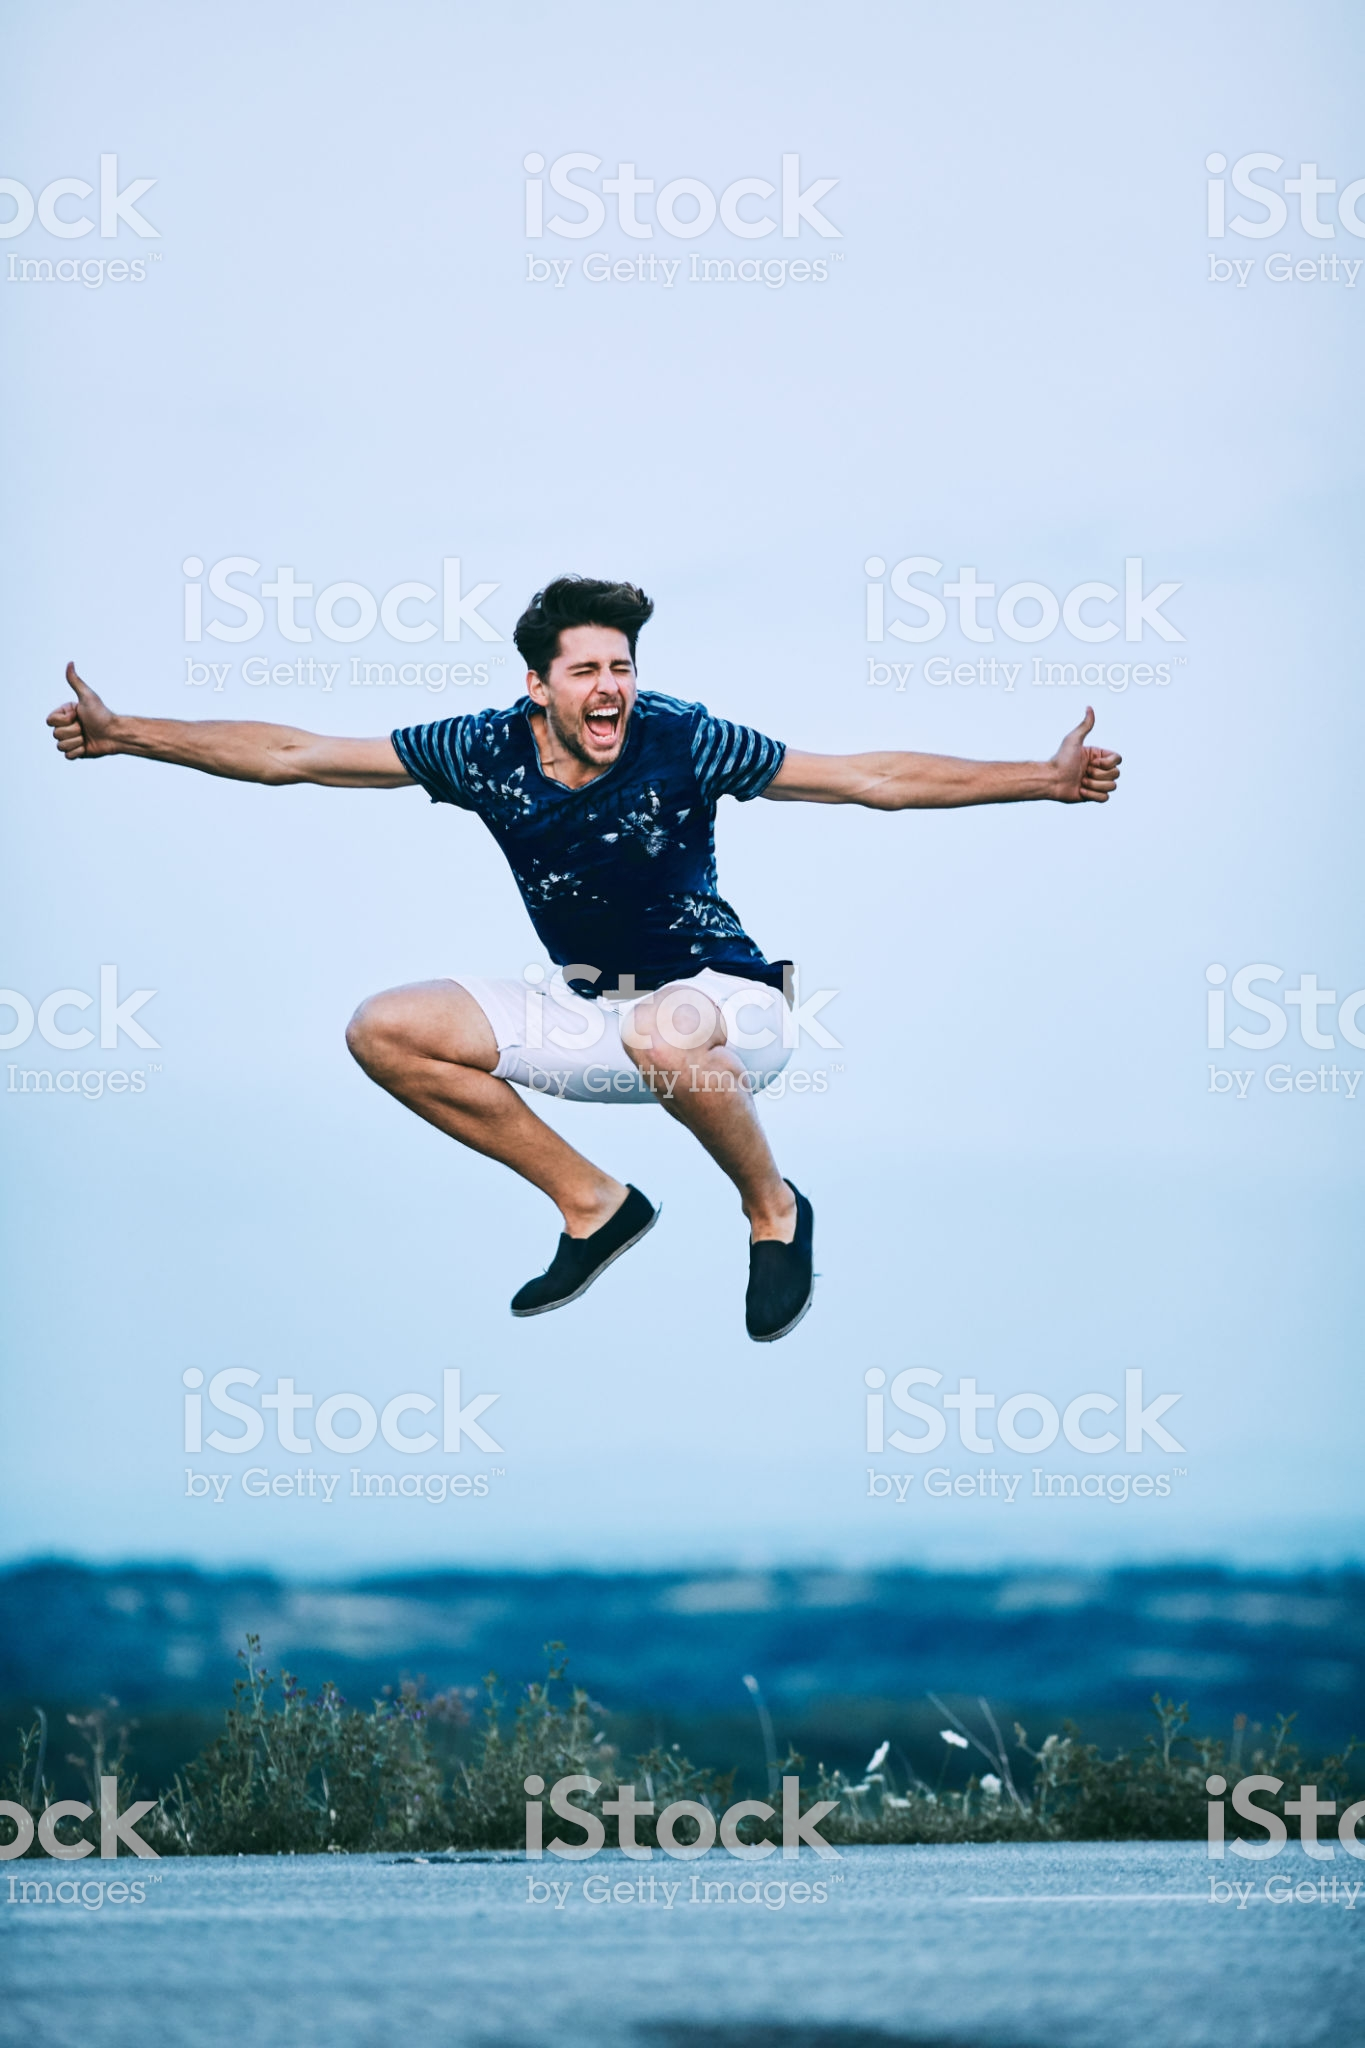thumbsup: (1056, 700, 1123, 805), (44, 658, 107, 763)
